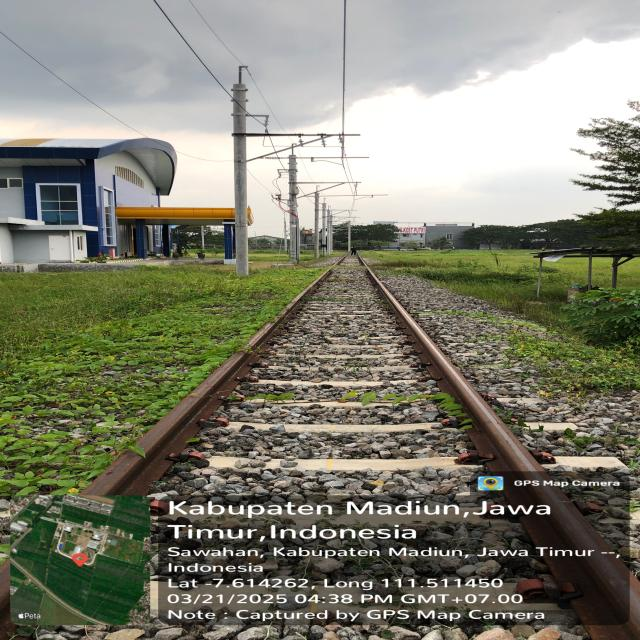rail-detection: (366, 270, 640, 640), (81, 271, 331, 494)
